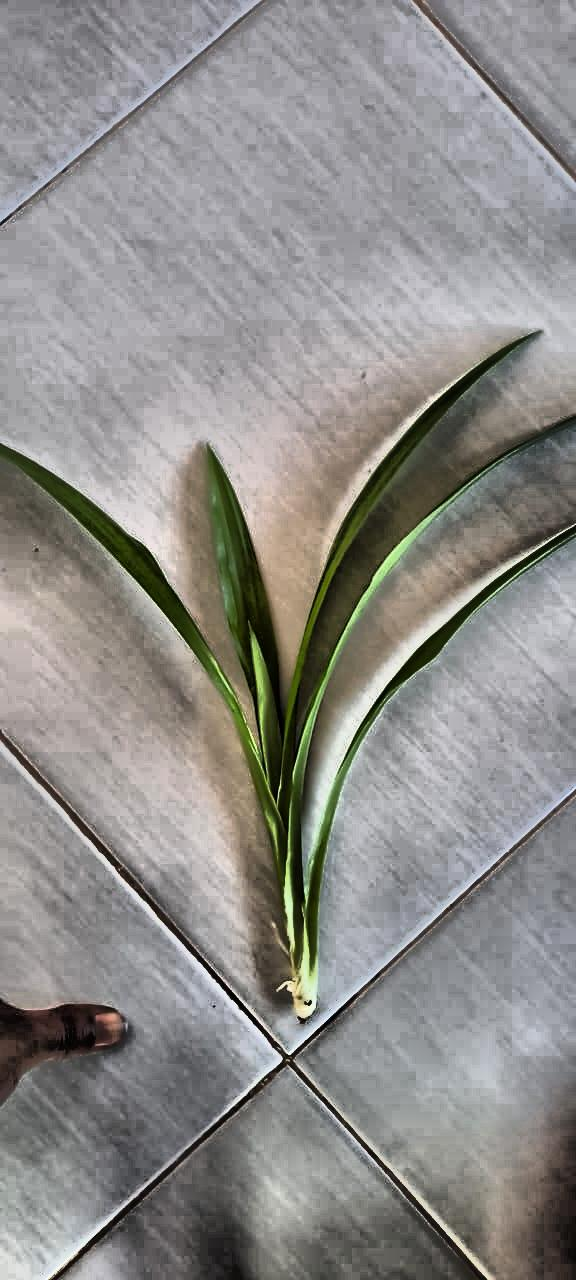daun pandan: (2, 334, 575, 1021)
